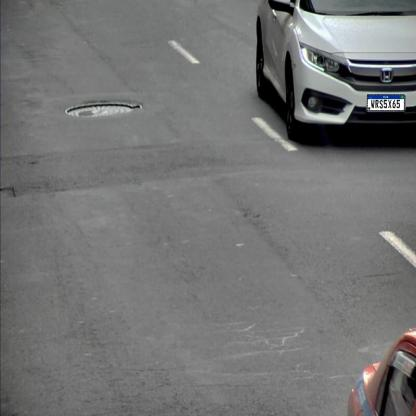PlacaM: (367, 94, 405, 111)
